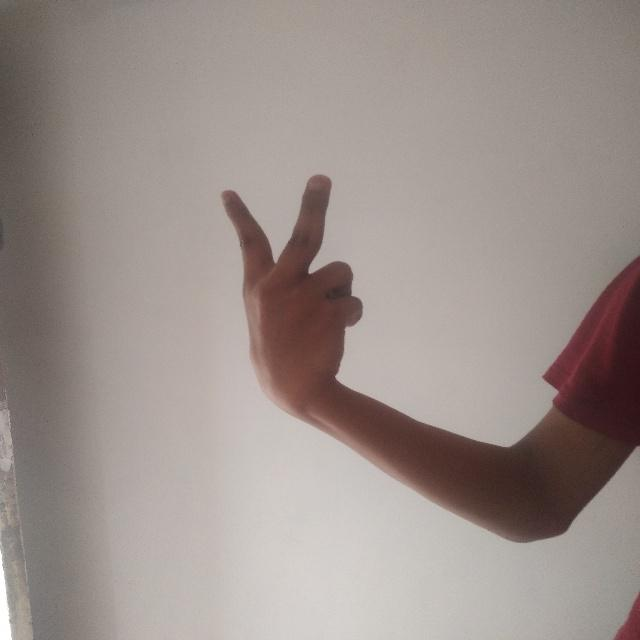Reversed Victory: (212, 171, 378, 437)
